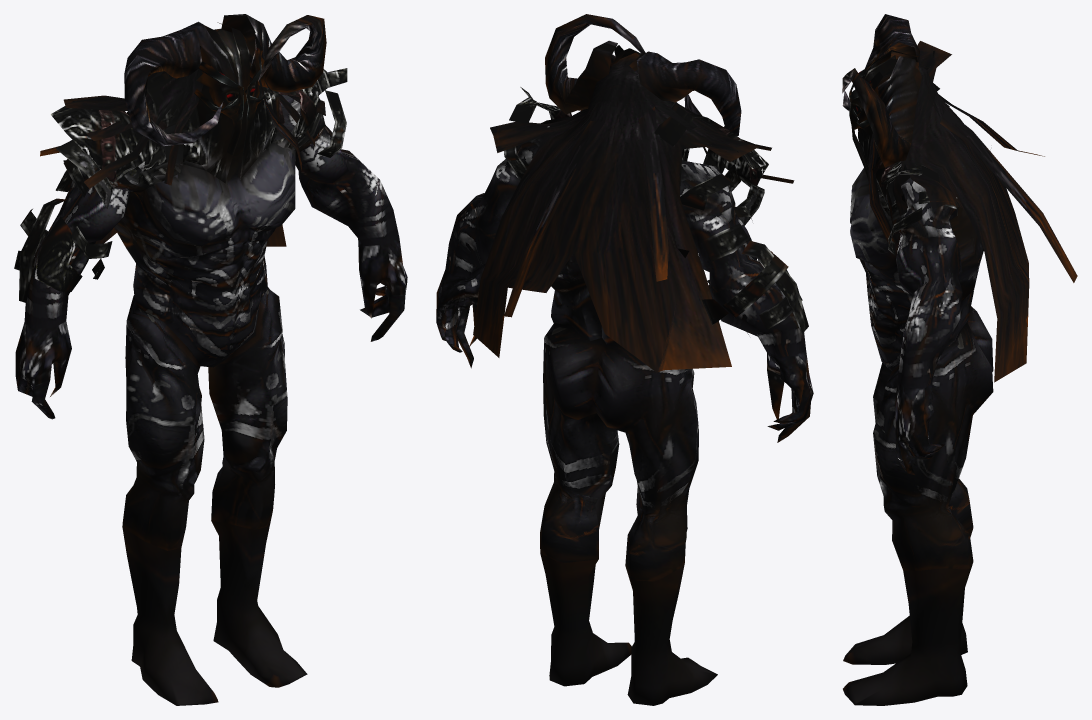
Rendered from Dahaka.obj.
The picture shows the model from 3 angles, left to right: view 1: azimuth 30°, elevation 25°; view 2: azimuth 150°, elevation 25°; view 3: azimuth 270°, elevation 25°; orthographic projection. The views are drawn at different scales.
Parts seen in each view (by area): view 1: M_Dahaka; view 2: M_Dahaka; view 3: M_Dahaka.
Boxes of the visible parts, x1,y1,x2,y2 form: M_Dahaka: (14,14,407,705); M_Dahaka: (436,14,813,705); M_Dahaka: (842,14,1077,705).
Size of the model in its own units: 13.82 by 22.51 by 7.61.
1 material, 1 textured.
